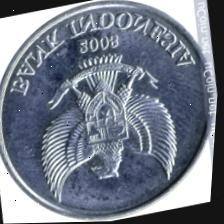coin_200_e2003: (0, 1, 214, 219)
